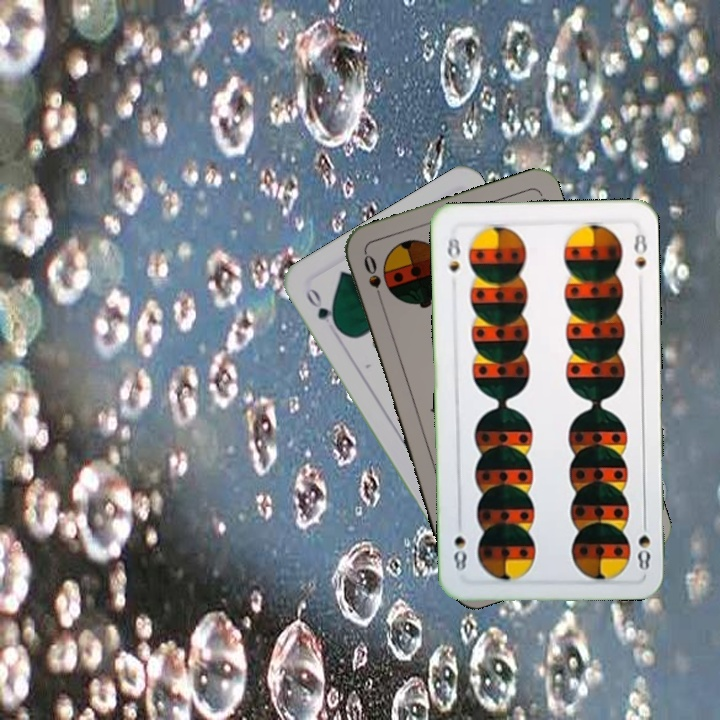GO: (301, 283, 343, 337)
S8: (633, 514, 653, 573), (443, 233, 463, 274)
SO: (359, 250, 386, 307)
